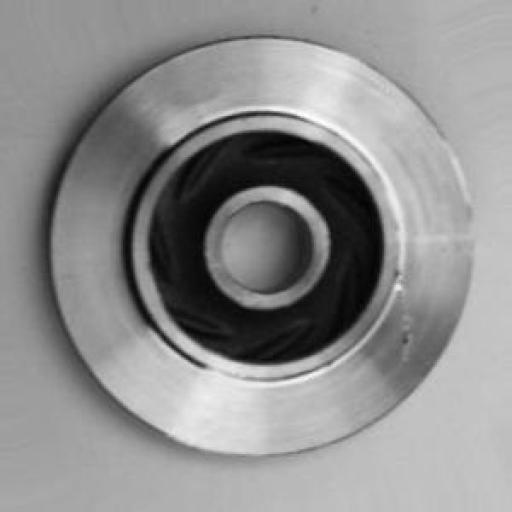defect: (382, 216, 439, 403)
